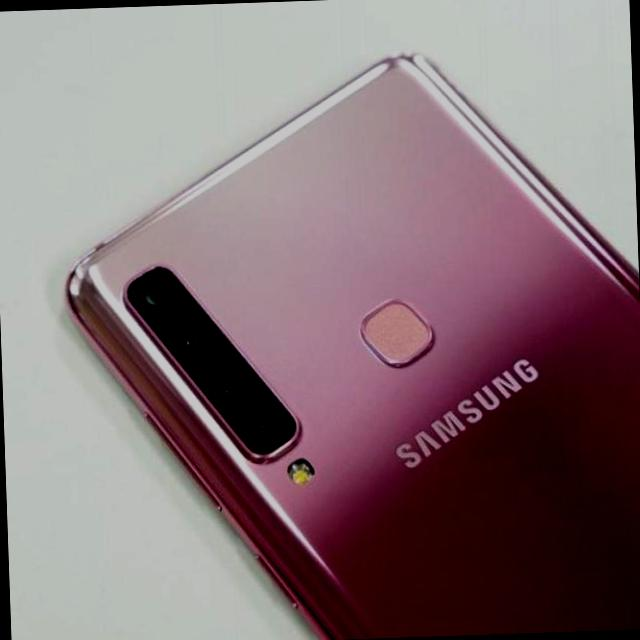lens_back: (124, 262, 180, 318), (202, 366, 251, 406), (170, 318, 212, 356), (246, 408, 284, 450)
